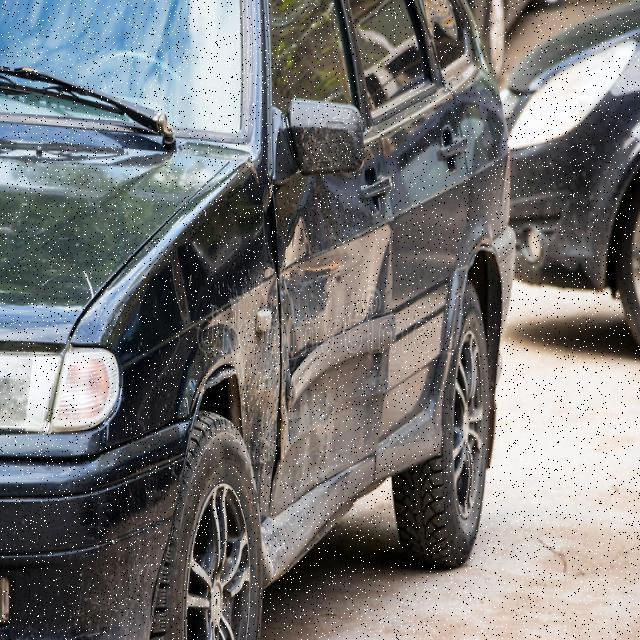bumper: (92, 175, 270, 564)
fender: (264, 115, 391, 526)
